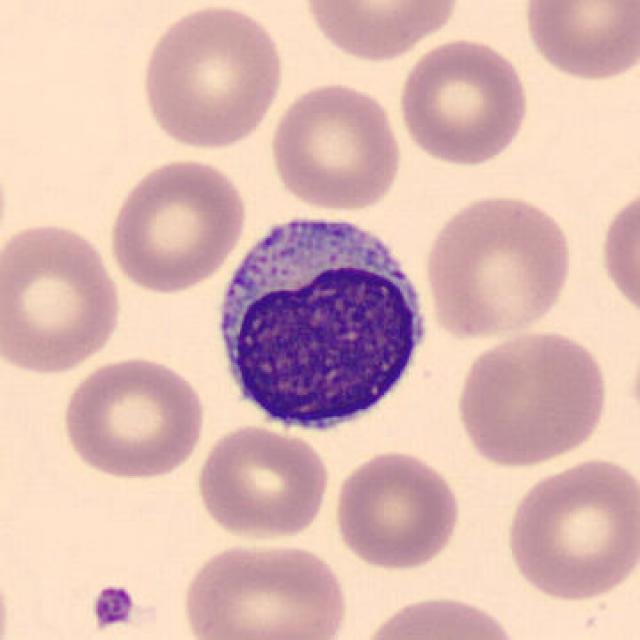Lymphocyte: (202, 205, 434, 442)
Platelets: (87, 582, 137, 633)
RBC: (420, 189, 576, 342), (137, 0, 288, 152), (452, 326, 612, 469), (502, 453, 638, 605), (105, 154, 249, 296), (0, 217, 126, 379), (57, 353, 210, 483), (267, 78, 405, 214), (395, 36, 533, 170), (178, 536, 352, 640), (192, 421, 332, 545), (331, 446, 464, 573), (298, 0, 464, 63), (519, 0, 638, 85), (353, 590, 524, 640), (596, 178, 638, 328)
